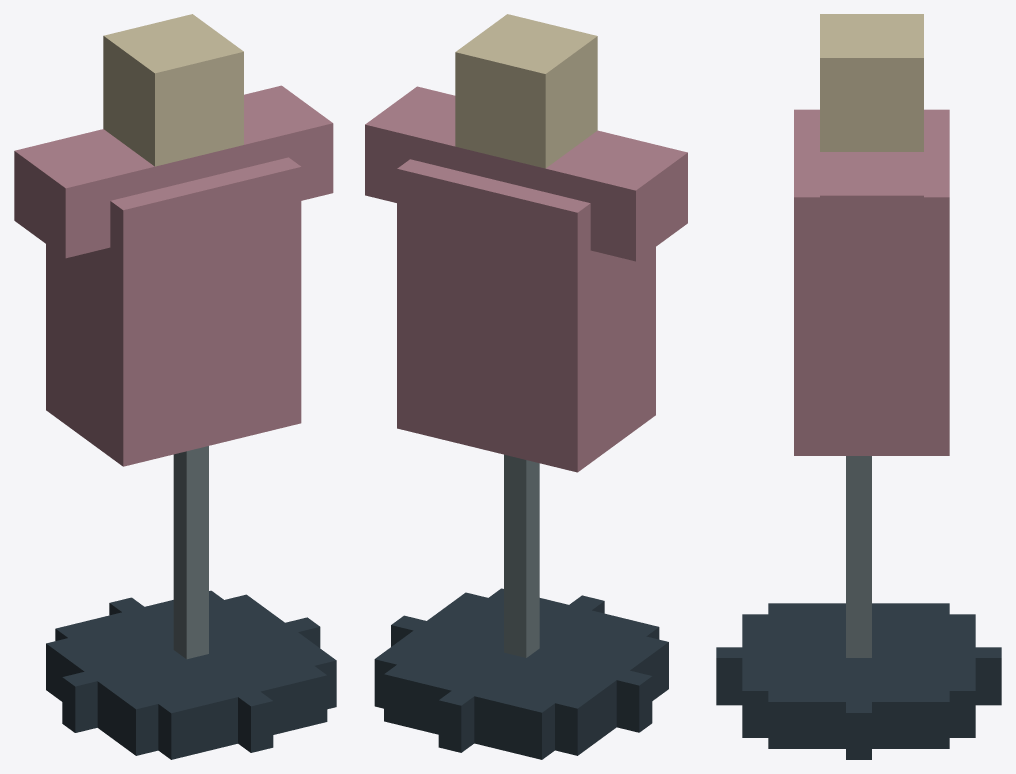
File: fashion-02.glb
3 views of the same model, side by side, from view 1: azimuth 30°, elevation 25°; view 2: azimuth 150°, elevation 25°; view 3: azimuth 270°, elevation 25° (orthographic).
Parts seen in each view (by area): view 1: Dress mannequin; view 2: Dress mannequin; view 3: Dress mannequin.
Boxes of the visible parts, x1,y1,x2,y2 form: Dress mannequin: (14,14,336,759); Dress mannequin: (365,14,687,759); Dress mannequin: (716,14,1001,759).
Bounding box in the file's own units: 0.96 × 2.24 × 0.88.
